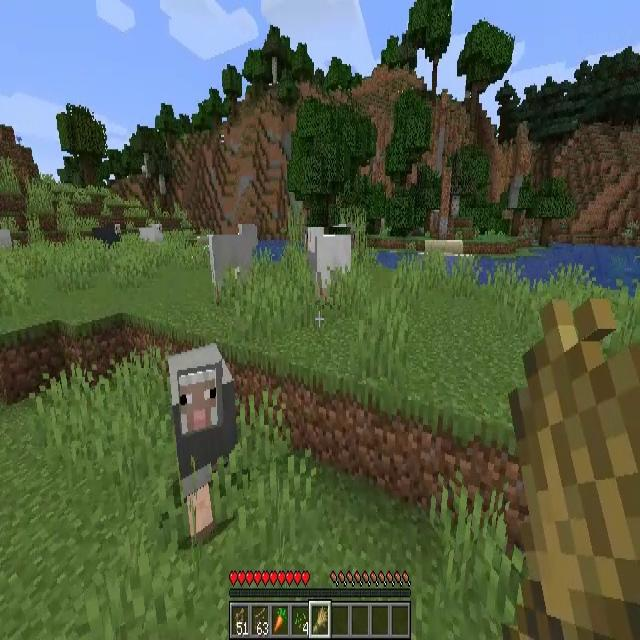sheep: (169, 346, 248, 536), (209, 219, 262, 295), (306, 227, 351, 305)
